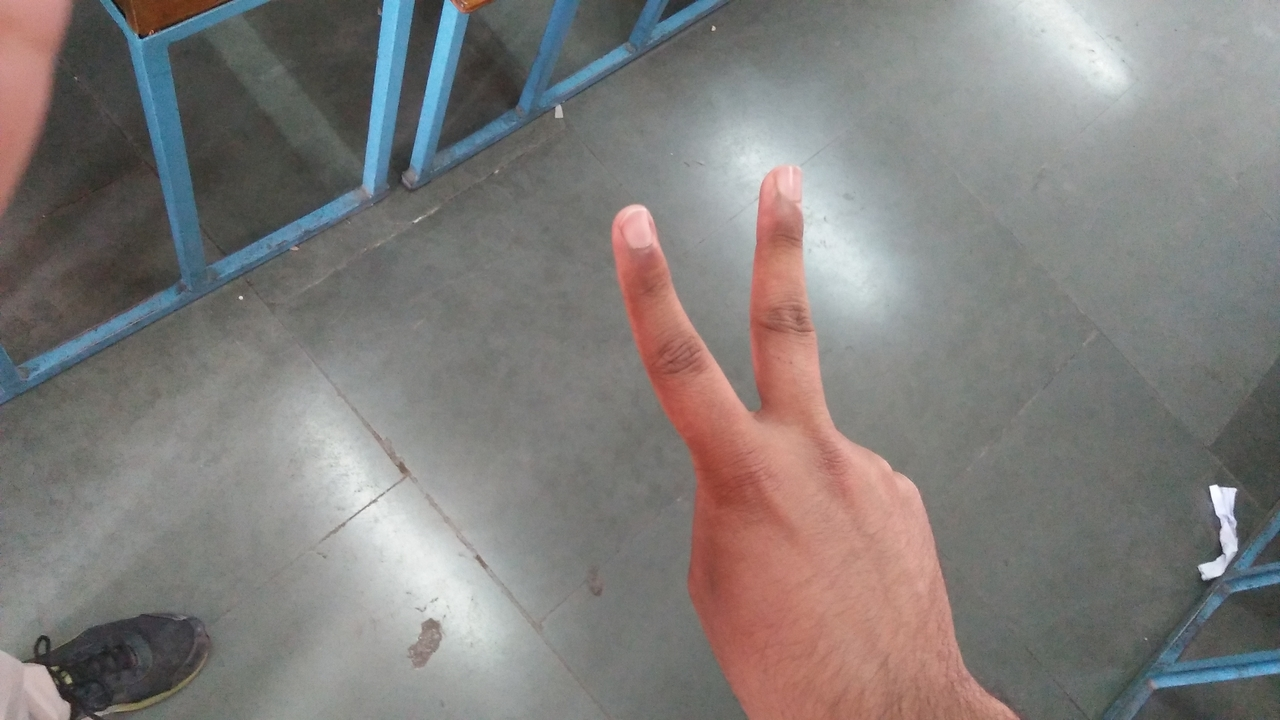fingertip: (606, 192, 666, 260), (750, 156, 812, 216)
